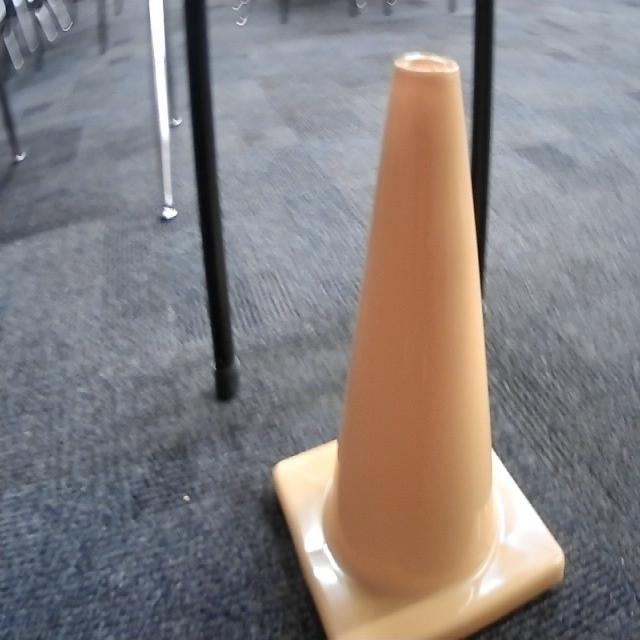cone: (269, 50, 565, 640)
